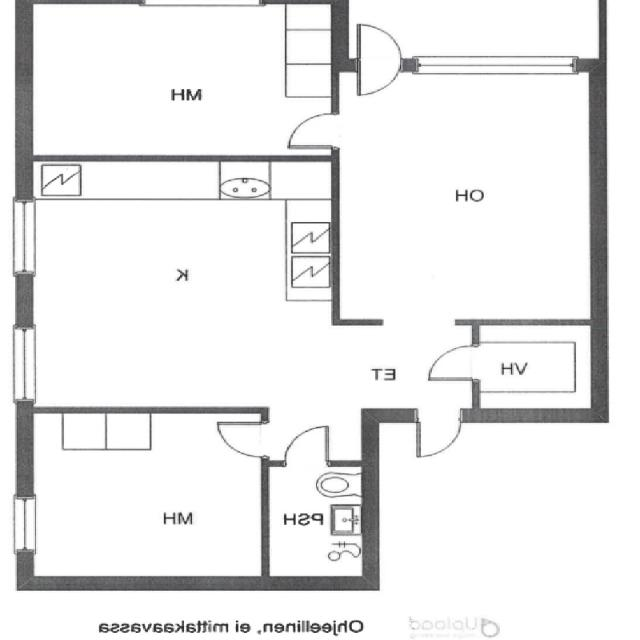door: (418, 408, 462, 457), (359, 57, 402, 105), (359, 24, 402, 71), (287, 113, 340, 148), (429, 345, 482, 380), (286, 426, 329, 466), (220, 422, 270, 456)
